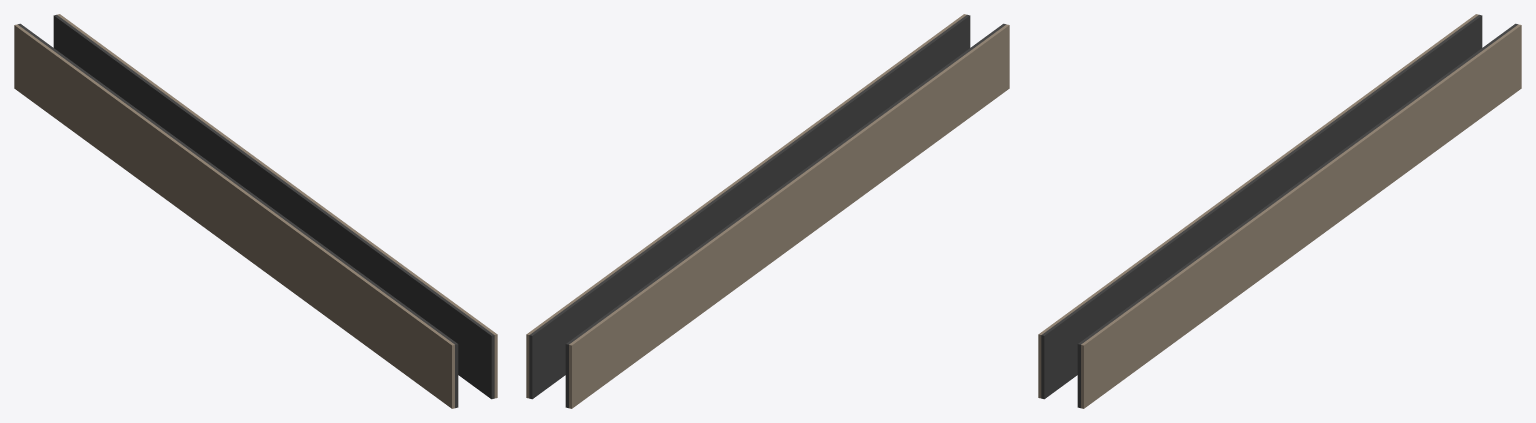
File: Leer.obj
3 renders of one model, left to right at view 1: azimuth 30°, elevation 25°; view 2: azimuth 150°, elevation 25°; view 3: azimuth 330°, elevation 25°, orthographic.
Parts seen in each view (by area): view 1: 5:1:1, 8:1:1, 6:1:1, 7:1:1; view 2: 5:1:1, 8:1:1, 6:1:1, 7:1:1; view 3: 6:1:1, 7:1:1, 5:1:1, 8:1:1.
Part boxes in pixels (<box>): 5:1:1: <box>14,24,454,408</box>; 8:1:1: <box>53,14,494,399</box>; 6:1:1: <box>57,14,497,398</box>; 7:1:1: <box>18,23,458,408</box>; 5:1:1: <box>569,24,1009,408</box>; 8:1:1: <box>529,14,970,399</box>; 6:1:1: <box>526,14,966,398</box>; 7:1:1: <box>565,23,1005,408</box>; 6:1:1: <box>1081,24,1521,408</box>; 7:1:1: <box>1041,14,1482,399</box>; 5:1:1: <box>1038,14,1478,398</box>; 8:1:1: <box>1077,23,1517,408</box>.
Bounding box in the file's own units: 0.6 × 0.8 × 10.
